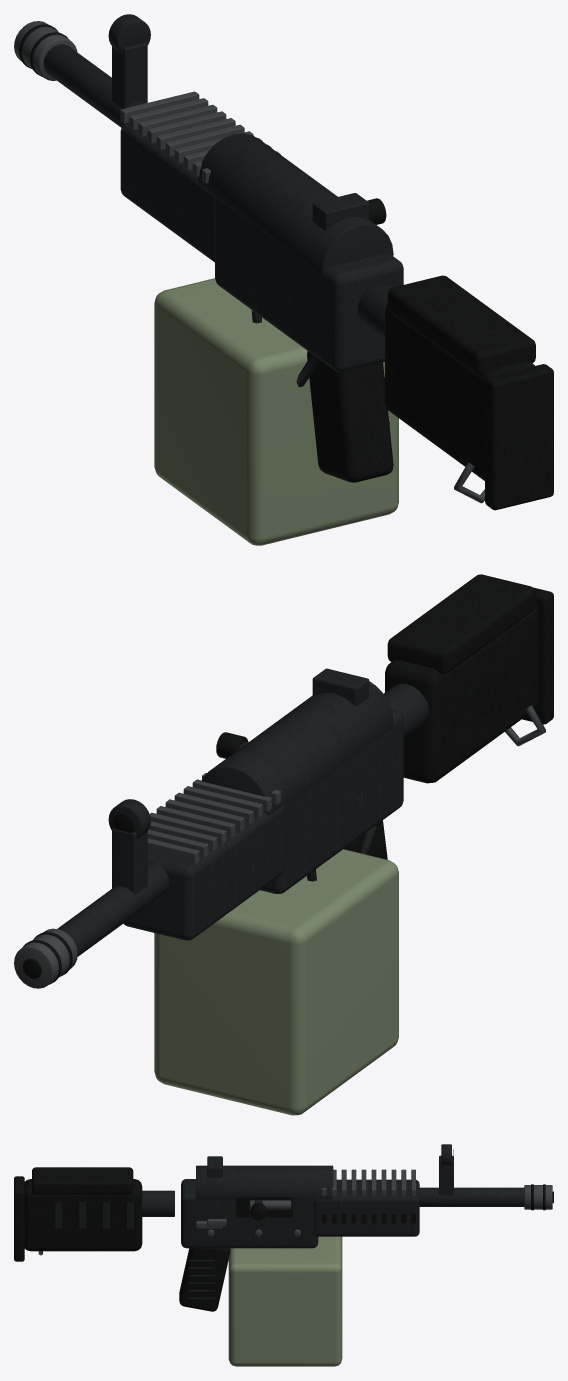
3 views of the same model, one above another, from view 1: azimuth 30°, elevation 25°; view 2: azimuth 150°, elevation 25°; view 3: azimuth 270°, elevation 25° (orthographic). The views are drawn at different scales.
Parts seen in each view (by area): view 1: magazine_Olive rifle finish, weapon_Weapon finish / Parkerized steel, weapon_Weapon finish / Polymer, weapon_Polymer, weapon_Parkerized steel, weapon_Machined edges; view 2: magazine_Olive rifle finish, weapon_Weapon finish / Parkerized steel, weapon_Weapon finish / Polymer, weapon_Parkerized steel, weapon_Machined edges, weapon_Polymer; view 3: weapon_Weapon finish / Parkerized steel, magazine_Olive rifle finish, weapon_Weapon finish / Polymer, weapon_Parkerized steel, weapon_Polymer, weapon_Machined edges, bolt_Machined edges.
Boxes of the visible parts, x1=… form: magazine_Olive rifle finish: x1=154, y1=278, x2=398, y2=545; weapon_Weapon finish / Parkerized steel: x1=120, y1=123, x2=403, y2=372; weapon_Weapon finish / Polymer: x1=385, y1=275, x2=535, y2=480; weapon_Polymer: x1=19, y1=24, x2=553, y2=510; weapon_Parkerized steel: x1=43, y1=14, x2=392, y2=424; weapon_Machined edges: x1=14, y1=21, x2=484, y2=503; magazine_Olive rifle finish: x1=154, y1=849, x2=398, y2=1115; weapon_Weapon finish / Parkerized steel: x1=123, y1=681, x2=403, y2=940; weapon_Weapon finish / Polymer: x1=385, y1=574, x2=538, y2=783; weapon_Parkerized steel: x1=57, y1=668, x2=428, y2=956; weapon_Machined edges: x1=14, y1=705, x2=545, y2=988; weapon_Polymer: x1=22, y1=587, x2=553, y2=984; weapon_Weapon finish / Parkerized steel: x1=181, y1=1165, x2=419, y2=1248; magazine_Olive rifle finish: x1=228, y1=1236, x2=342, y2=1366; weapon_Weapon finish / Polymer: x1=24, y1=1167, x2=142, y2=1251; weapon_Parkerized steel: x1=55, y1=1144, x2=524, y2=1299; weapon_Polymer: x1=14, y1=1149, x2=553, y2=1311; weapon_Machined edges: x1=38, y1=1169, x2=552, y2=1255; bolt_Machined edges: x1=249, y1=1200, x2=291, y2=1209.
Size of the model in its own units: 0.164 by 0.376 by 0.905.
6 materials, 5 textured.
